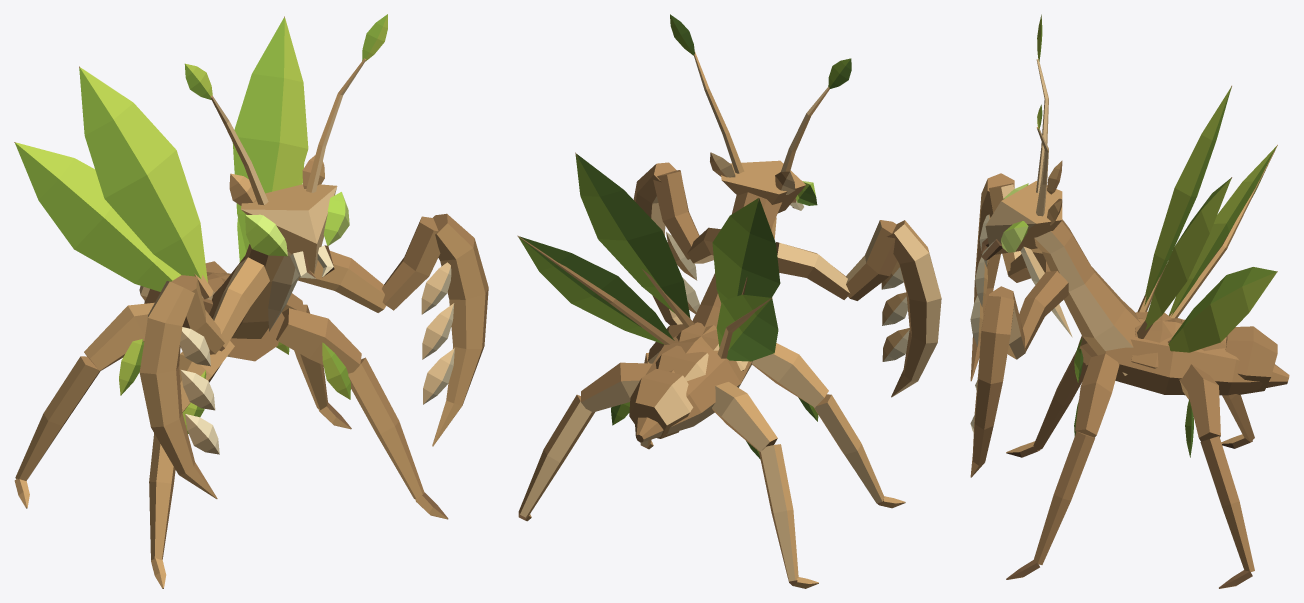
The model's file is mantis-study-v1.glb.
3 views of the same model, side by side, from view 1: azimuth 30°, elevation 25°; view 2: azimuth 150°, elevation 25°; view 3: azimuth 270°, elevation 25° (orthographic). The views are drawn at different scales.
Parts seen in each view (by area): view 1: Leaf wing wing-1_0, Leaf wing wing-1_1, Leaf wing wing1_0, Curved woody hook -1, Curved woody hook 1, Triangular mantis head, Walking tibia leg1_0, Walking tibia leg-1_1, Walking femur leg1_0, Raised raptorial forearm 1, Raptorial upper arm -1, Raptorial upper arm 1 (+23 smaller); view 2: Leaf wing wing1_0, Leaf wing wing-1_0, Leaf wing wing1_1, Curved woody hook -1, Abdomen core, Leaf wing wing-1_1, Abdominal tergite 2, Walking tibia leg-1_1, Walking tibia leg1_1, Walking femur leg-1_1, Walking femur leg-1_0, Raised raptorial forearm -1 (+15 smaller); view 3: Rising prothorax, Abdomen core, Leaf wing wing1_1, Curved woody hook 1, Leaf wing wing-1_0, Leaf wing wing1_0, Triangular mantis head, Leaf wing wing-1_1, Walking tibia leg1_1, Walking tibia leg1_0, Walking femur leg1_0, Abdominal tergite 2 (+16 smaller).
Part boxes in pixels (x1=…): Leaf wing wing-1_0: x1=79, y1=67, x2=207, y2=282; Leaf wing wing-1_1: x1=15, y1=142, x2=180, y2=291; Leaf wing wing1_0: x1=232, y1=17, x2=308, y2=251; Curved woody hook -1: x1=139, y1=281, x2=217, y2=498; Curved woody hook 1: x1=432, y1=213, x2=488, y2=446; Triangular mantis head: x1=241, y1=184, x2=337, y2=273; Walking tibia leg1_0: x1=348, y1=357, x2=424, y2=499; Walking tibia leg-1_1: x1=15, y1=356, x2=99, y2=480; Walking femur leg1_0: x1=276, y1=308, x2=361, y2=373; Raised raptorial forearm 1: x1=382, y1=216, x2=440, y2=310; Raptorial upper arm -1: x1=212, y1=257, x2=269, y2=351; Raptorial upper arm 1: x1=298, y1=251, x2=385, y2=312; Leaf wing wing1_0: x1=575, y1=154, x2=690, y2=318; Leaf wing wing-1_0: x1=712, y1=198, x2=780, y2=302; Leaf wing wing1_1: x1=518, y1=236, x2=674, y2=344; Curved woody hook -1: x1=887, y1=220, x2=941, y2=397; Abdomen core: x1=635, y1=325, x2=752, y2=442; Leaf wing wing-1_1: x1=716, y1=294, x2=778, y2=361; Abdominal tergite 2: x1=629, y1=369, x2=693, y2=438; Walking tibia leg-1_1: x1=759, y1=444, x2=798, y2=581; Walking tibia leg1_1: x1=519, y1=394, x2=594, y2=517; Walking femur leg-1_1: x1=712, y1=382, x2=777, y2=451; Walking femur leg-1_0: x1=752, y1=343, x2=828, y2=407; Raised raptorial forearm -1: x1=846, y1=220, x2=897, y2=300; Rising prothorax: x1=1034, y1=219, x2=1141, y2=375; Abdomen core: x1=1105, y1=318, x2=1289, y2=395; Leaf wing wing1_1: x1=1168, y1=267, x2=1276, y2=352; Curved woody hook 1: x1=970, y1=296, x2=1014, y2=477; Leaf wing wing-1_0: x1=1144, y1=86, x2=1231, y2=305; Leaf wing wing1_0: x1=1145, y1=178, x2=1231, y2=330; Triangular mantis head: x1=985, y1=181, x2=1062, y2=254; Leaf wing wing-1_1: x1=1168, y1=146, x2=1276, y2=316; Walking tibia leg1_1: x1=1200, y1=436, x2=1254, y2=572; Walking tibia leg1_0: x1=1033, y1=431, x2=1094, y2=564; Walking femur leg1_0: x1=1075, y1=353, x2=1119, y2=437; Abdominal tergite 2: x1=1225, y1=326, x2=1277, y2=394.
Bounding box in the file's own units: 2.82 × 3.88 × 2.45.
